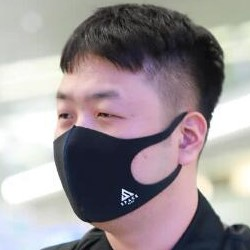mask: (42, 121, 177, 228)
